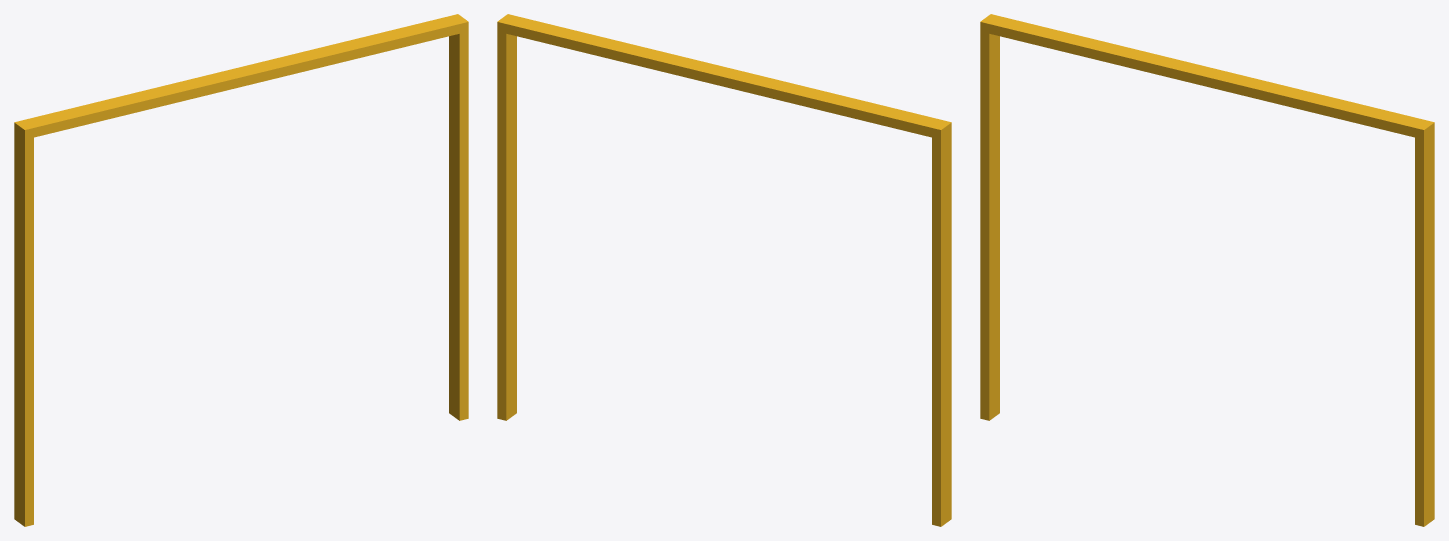
The model's file is dock-shelter-frame-authored-atlas.glb.
3 views of the same model, side by side, from view 1: azimuth 30°, elevation 25°; view 2: azimuth 150°, elevation 25°; view 3: azimuth 330°, elevation 25° (orthographic).
Parts seen in each view (by area): view 1: Authored surface.017; view 2: Authored surface.017; view 3: Authored surface.017.
Part boxes in pixels (x1,y1,x2,y2): Authored surface.017: (14, 14, 468, 526); Authored surface.017: (497, 14, 951, 526); Authored surface.017: (980, 14, 1434, 526).
Bounding box in the file's own units: 4.8 × 4.1 × 0.2.
1 material, 1 textured.
